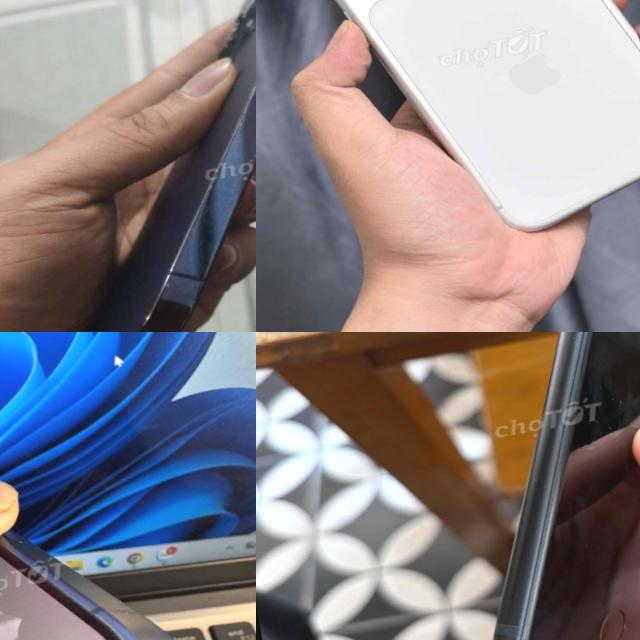gen_14: (94, 0, 256, 332)
gen_17: (286, 0, 640, 261)
scratch: (397, 332, 640, 640), (238, 39, 256, 112)
